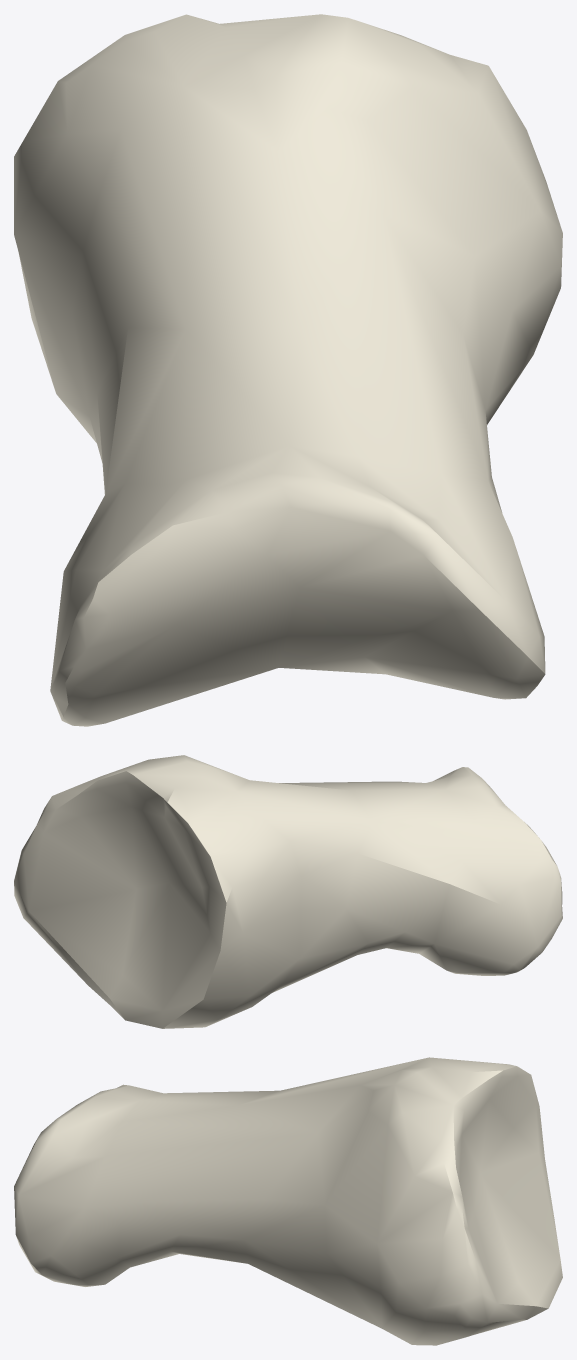
File: fma43253_fj3310.glb
3 renders of one model, top to bottom at view 1: azimuth 30°, elevation 25°; view 2: azimuth 150°, elevation 25°; view 3: azimuth 270°, elevation 25°, orthographic. The views are drawn at different scales.
Visible parts, largest first — view 1: FMA43253_FJ3310; view 2: FMA43253_FJ3310; view 3: FMA43253_FJ3310.
Boxes of the visible parts, bbox=[...] form: FMA43253_FJ3310: bbox=[14, 14, 562, 726]; FMA43253_FJ3310: bbox=[14, 755, 562, 1028]; FMA43253_FJ3310: bbox=[14, 1057, 562, 1345].
Bounding box in the file's own units: 0.0305 × 0.0172 × 0.0332.
